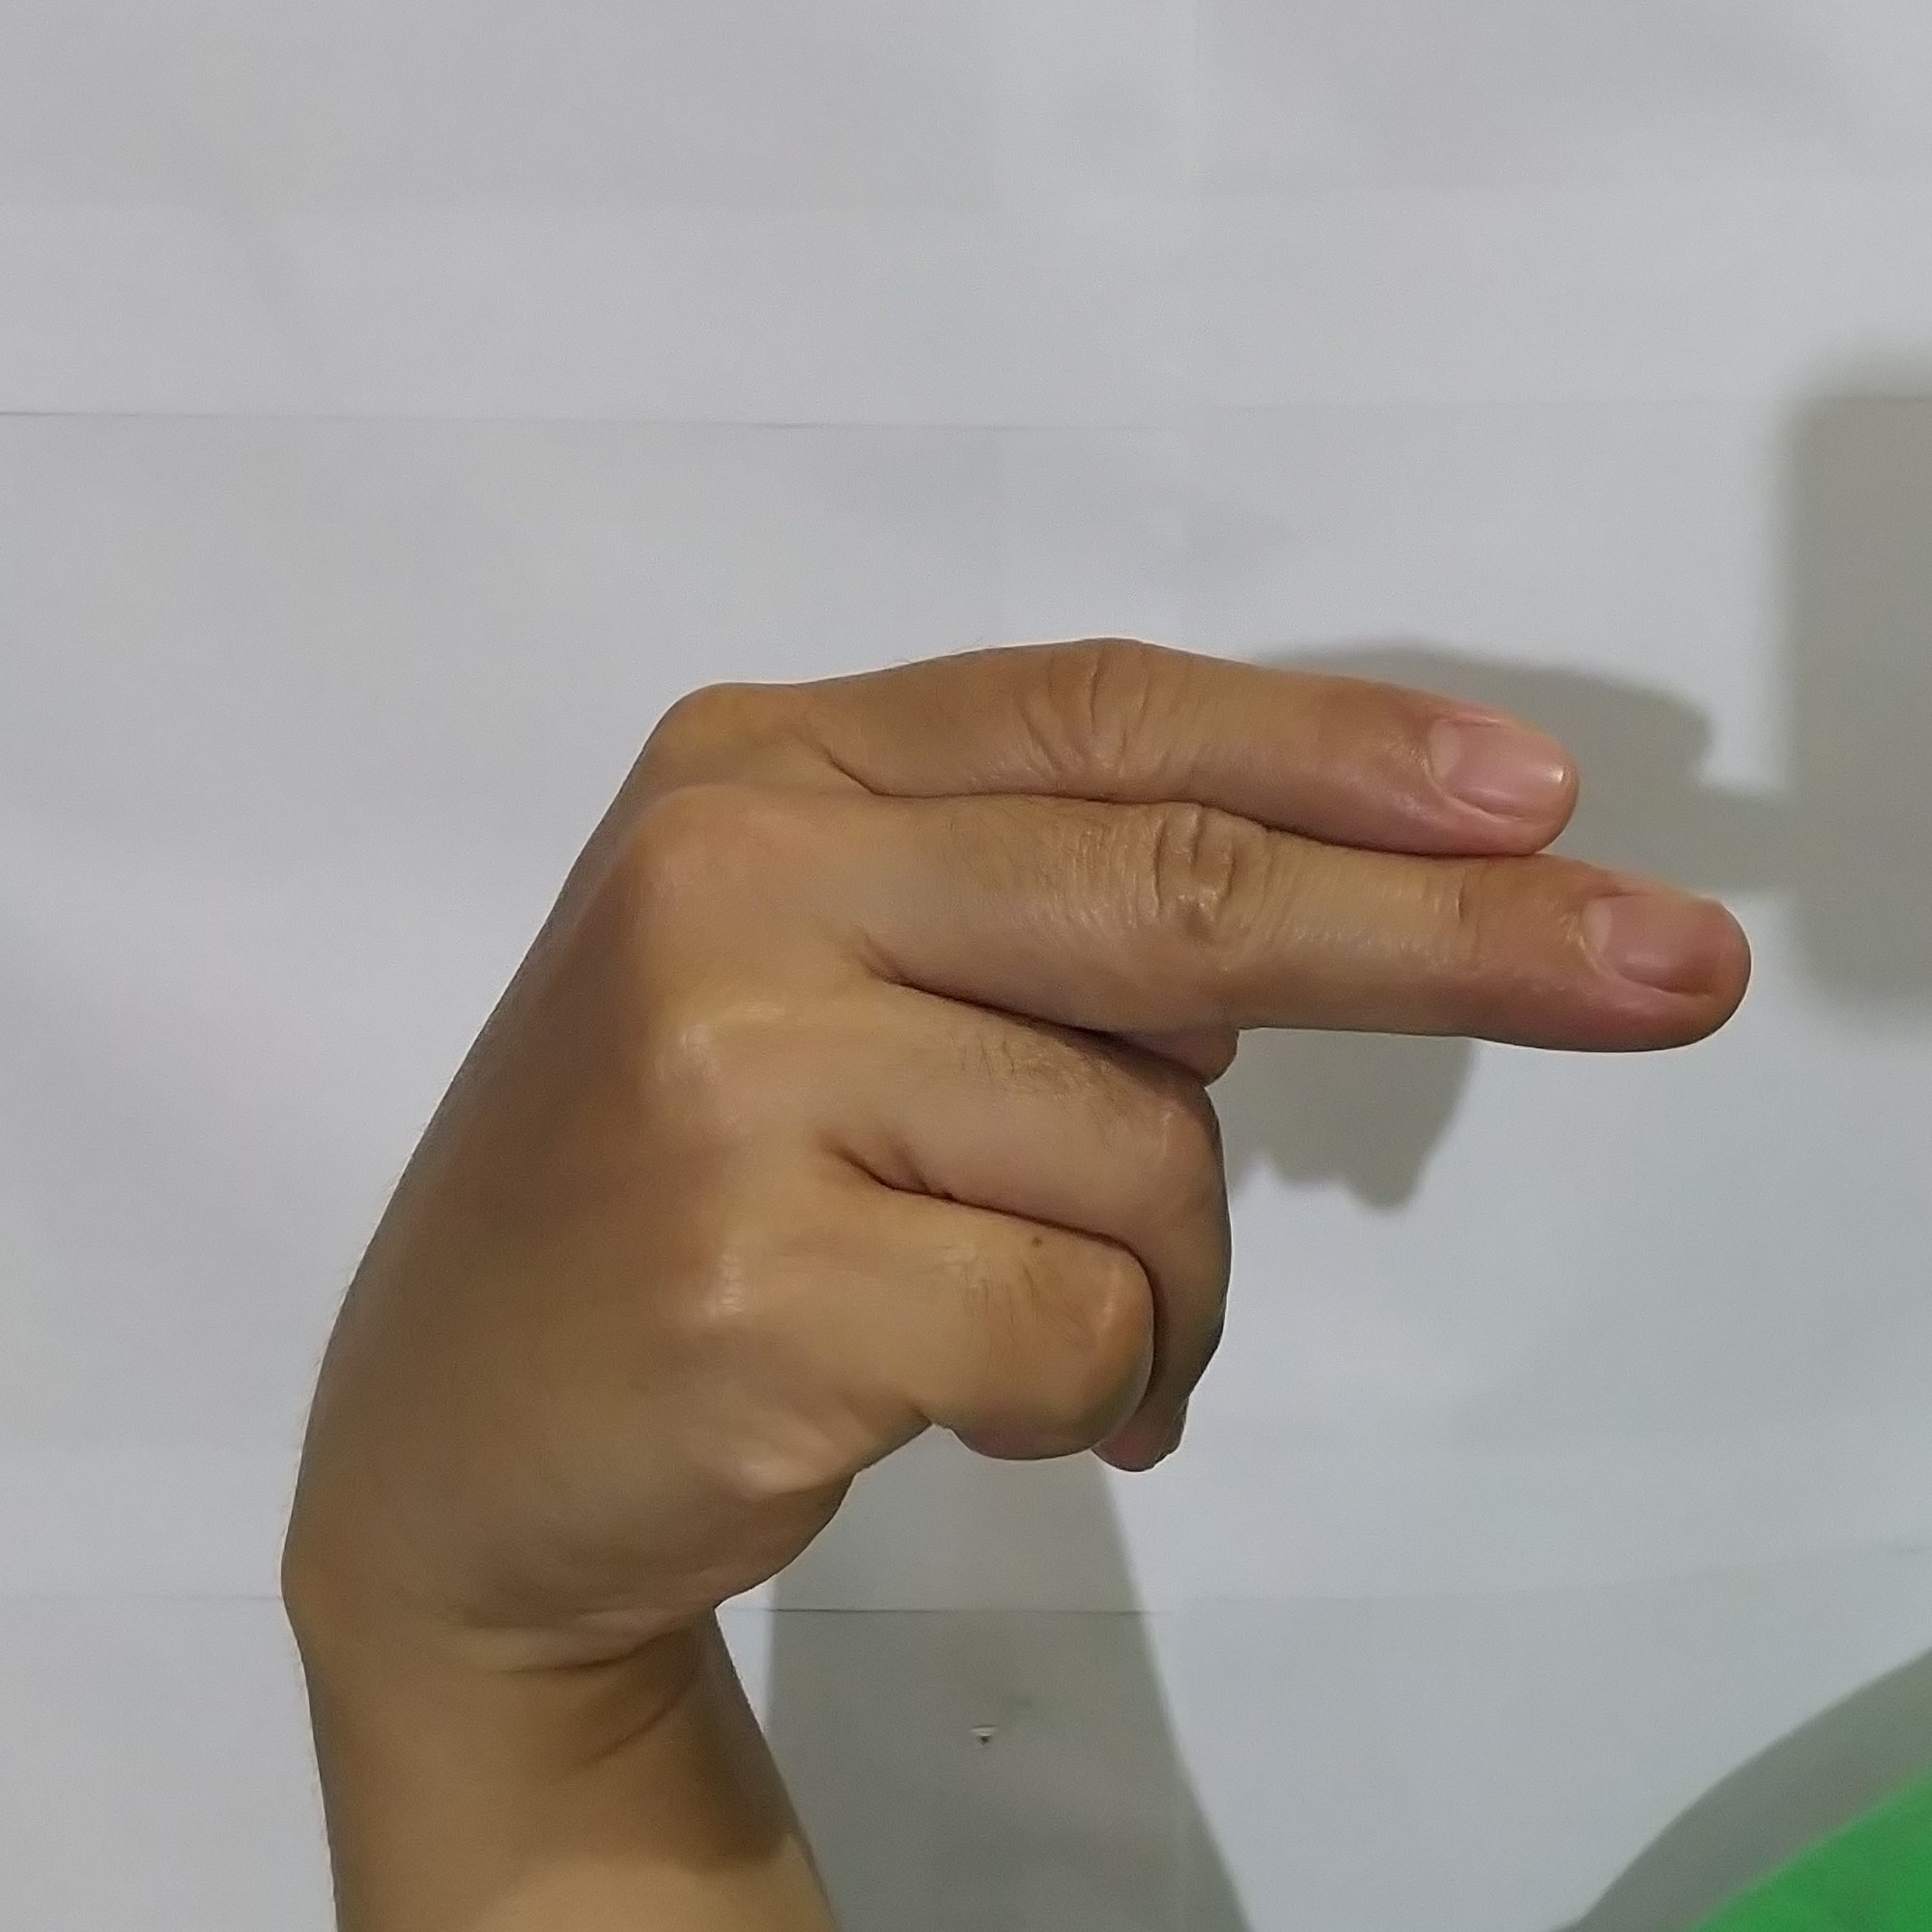H: (274, 616, 1776, 1612)
